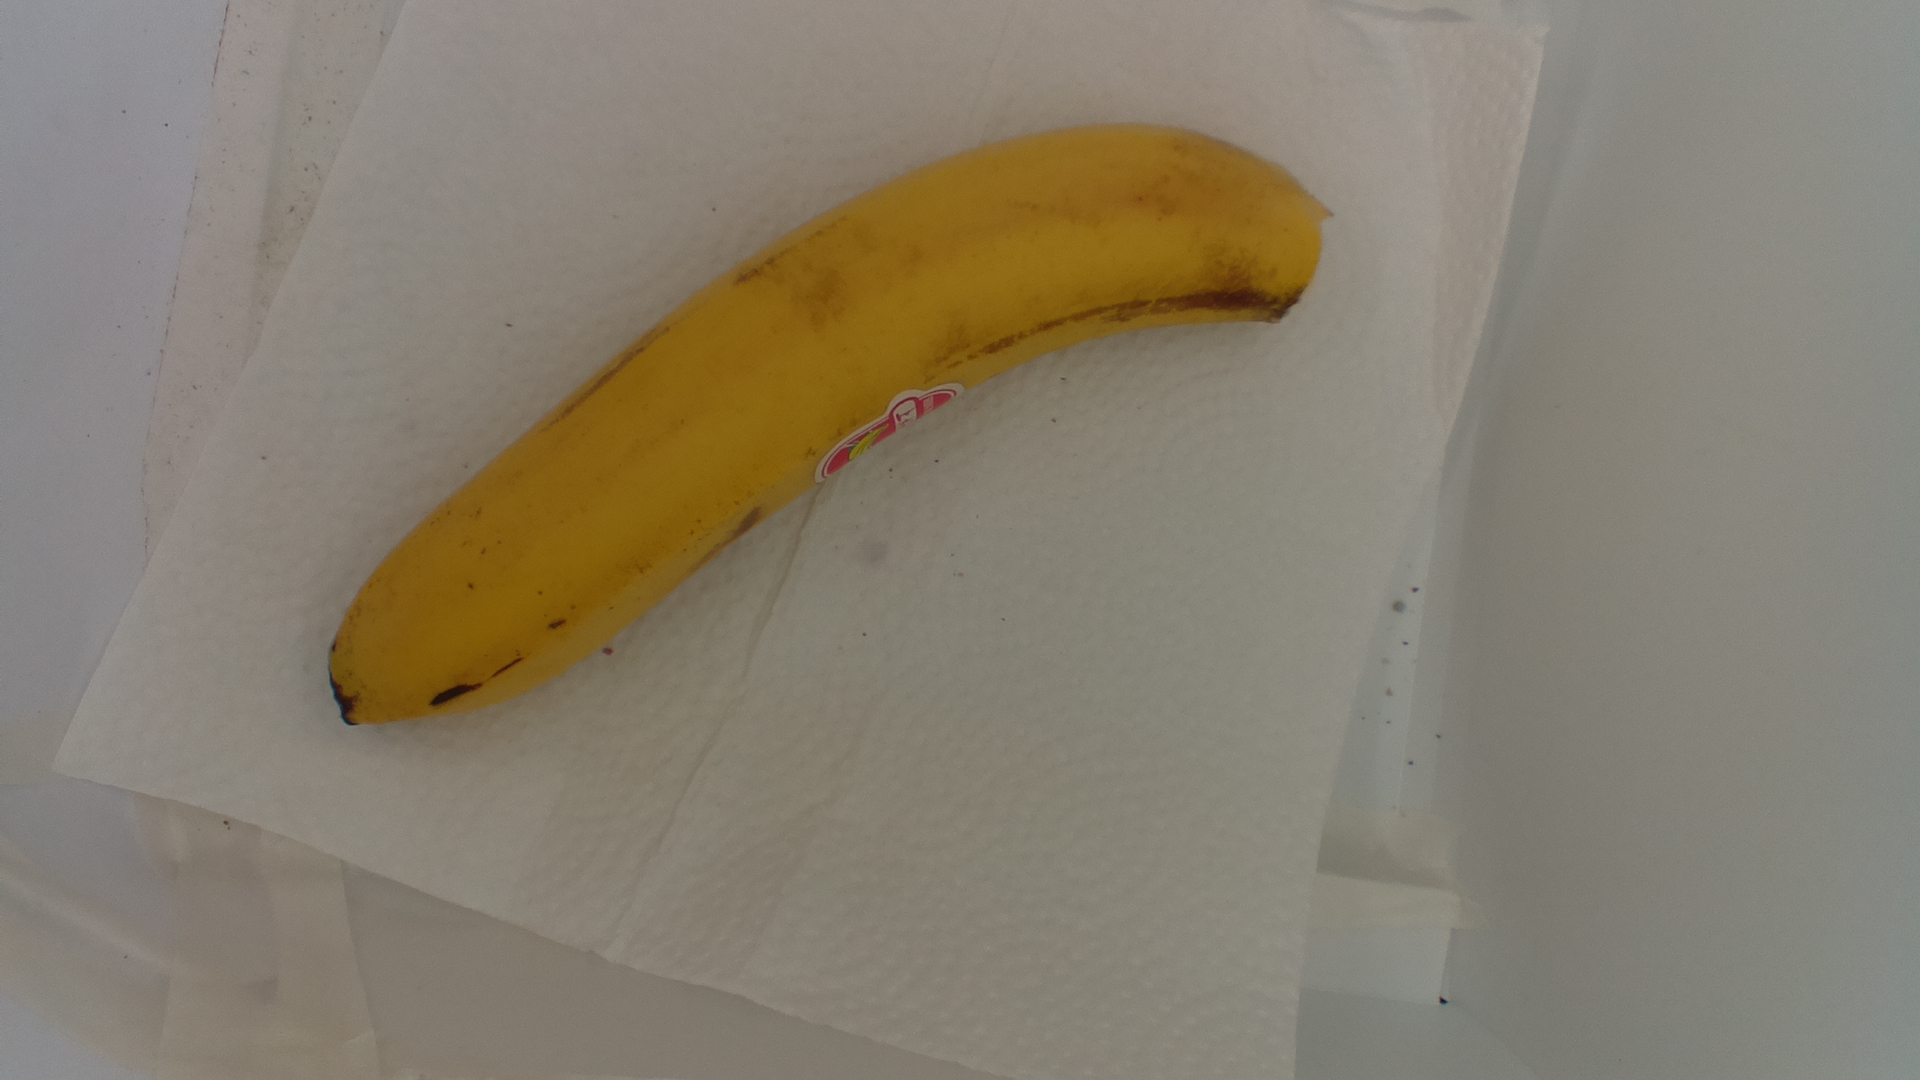fruit: (316, 112, 1340, 735)
